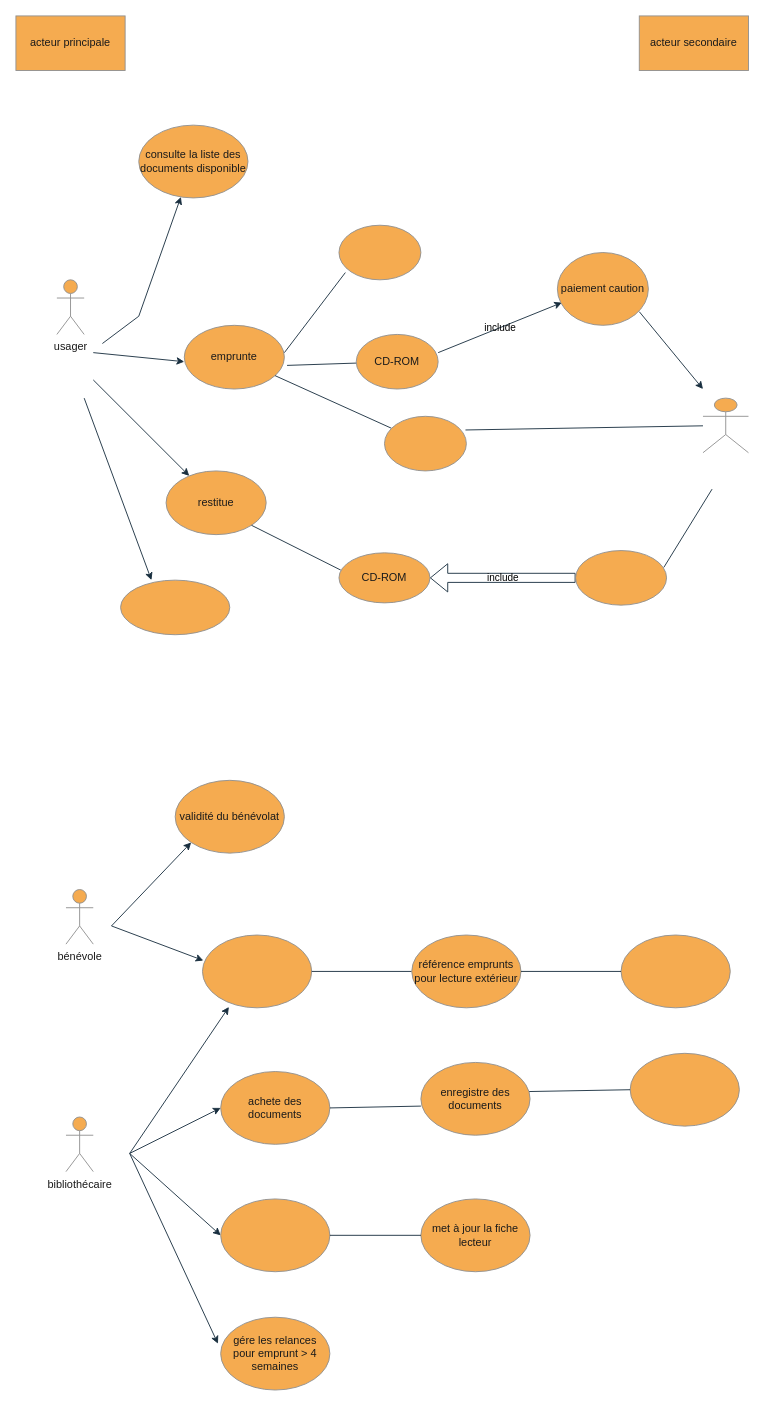
This 764x1406 diagram has some shape labels left out. The shapes that lost their labels are listed below. From the top down, each one's centre as x and y in pixels, then its label:
At (379,252): "livre".
At (425,443): "microfilm".
At (725,425): "guichet".
At (621,577): "restitue caution".
At (175,607): "carte de lecteur".
At (257,971): "verifie cotisation et nombre d'emprunts".
At (675,971): "fiche de pret".
At (684,1089): "status des documents perdues".
At (275,1235): "inscription des lecteurs".
